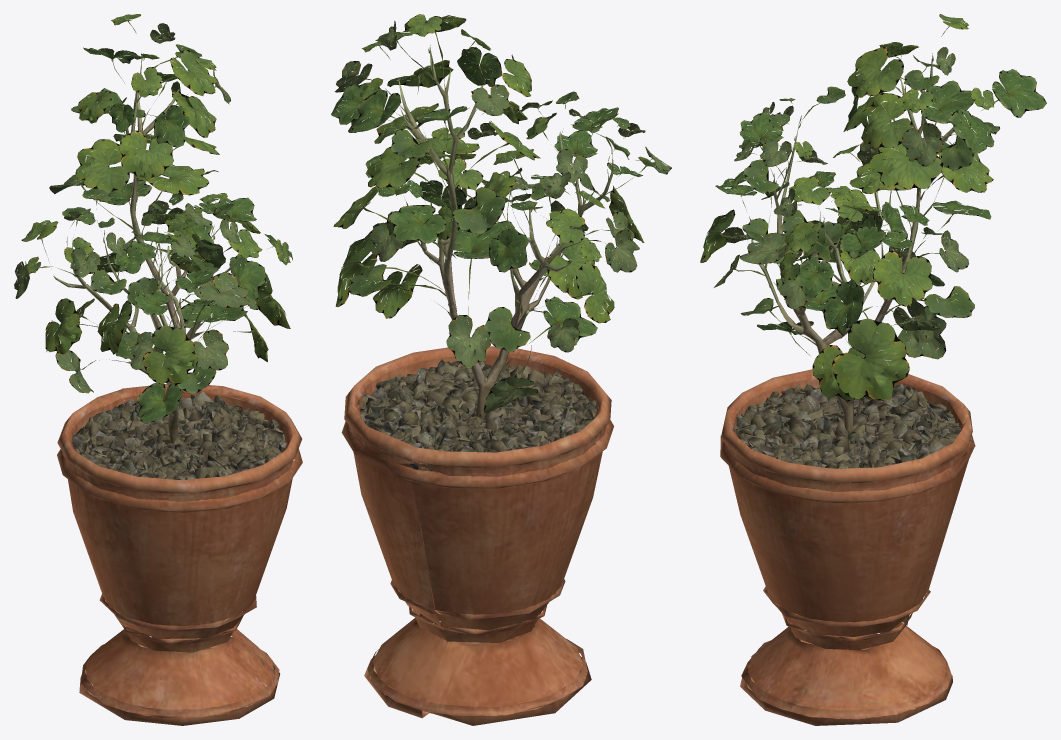
The model's file is potted_plant_01.glb.
3 renders of one model, left to right at view 1: azimuth 30°, elevation 25°; view 2: azimuth 150°, elevation 25°; view 3: azimuth 270°, elevation 25°, orthographic. The views are drawn at different scales.
Parts seen in each view (by area): view 1: potted_plant_01_pot, potted_plant_01_leaves, potted_plant_01_pebbles, potted_plant_01_stem; view 2: potted_plant_01_pot, potted_plant_01_leaves, potted_plant_01_pebbles, potted_plant_01_stem; view 3: potted_plant_01_pot, potted_plant_01_leaves, potted_plant_01_pebbles, potted_plant_01_stem.
Boxes of the visible parts, left/top/right/bottom form: potted_plant_01_pot: left=57, top=383, right=302, bottom=725; potted_plant_01_leaves: left=14, top=14, right=292, bottom=422; potted_plant_01_pebbles: left=71, top=392, right=288, bottom=492; potted_plant_01_stem: left=53, top=54, right=251, bottom=443; potted_plant_01_pot: left=341, top=346, right=613, bottom=725; potted_plant_01_leaves: left=331, top=14, right=671, bottom=413; potted_plant_01_pebbles: left=357, top=359, right=599, bottom=472; potted_plant_01_stem: left=398, top=47, right=612, bottom=420; potted_plant_01_pot: left=720, top=369, right=975, bottom=725; potted_plant_01_leaves: left=700, top=14, right=1046, bottom=401; potted_plant_01_pebbles: left=732, top=383, right=960, bottom=483; potted_plant_01_stem: left=751, top=55, right=965, bottom=431.
Bounding box in the file's own units: 0.5858 × 1.34 × 0.6335.
2 materials, 2 textured.
